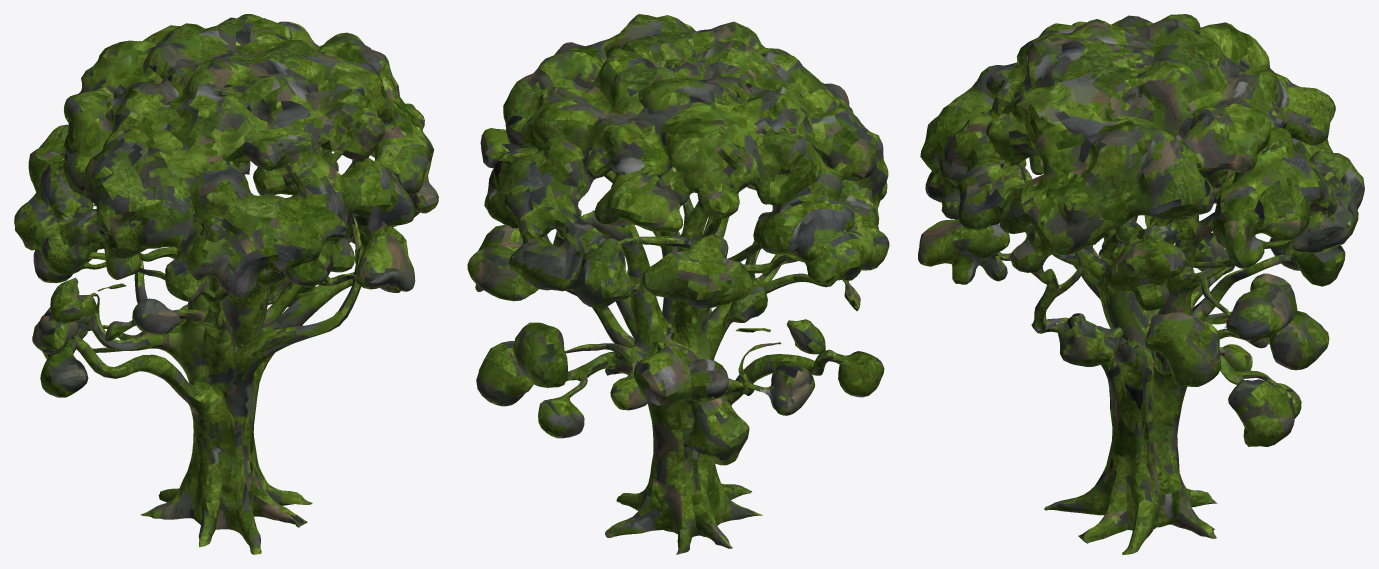
The model's file is veg_tree_oak_01.obj.
The picture shows the model from 3 angles, left to right: view 1: azimuth 30°, elevation 25°; view 2: azimuth 150°, elevation 25°; view 3: azimuth 270°, elevation 25°; orthographic projection. The views are drawn at different scales.
Parts seen in each view (by area): view 1: veg_tree_oak_01; view 2: veg_tree_oak_01; view 3: veg_tree_oak_01.
Part boxes in pixels (left/top/right/bottom): veg_tree_oak_01: left=14, top=14, right=438, bottom=554; veg_tree_oak_01: left=467, top=14, right=889, bottom=554; veg_tree_oak_01: left=918, top=14, right=1364, bottom=554.
Bounding box in the file's own units: 12.26 × 14.28 × 12.
Materials: 1 (1 with a texture image).
